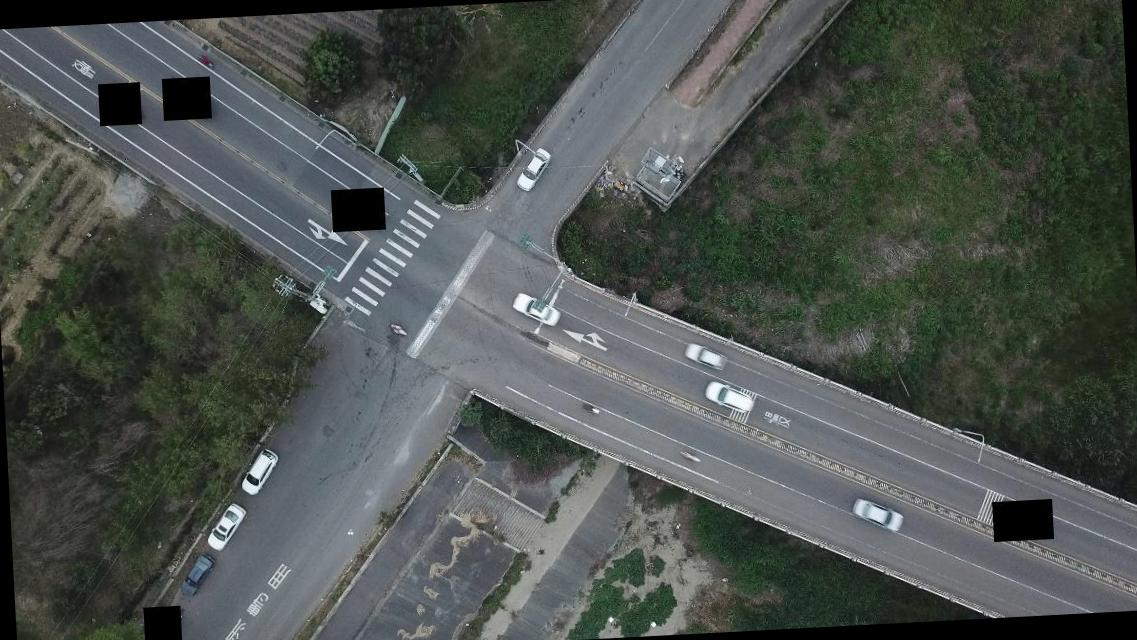vehicle: (202, 503, 248, 551), (850, 496, 904, 536), (237, 448, 280, 497), (510, 290, 560, 330), (702, 378, 753, 416), (512, 146, 552, 192), (178, 552, 219, 596), (683, 341, 726, 373)
